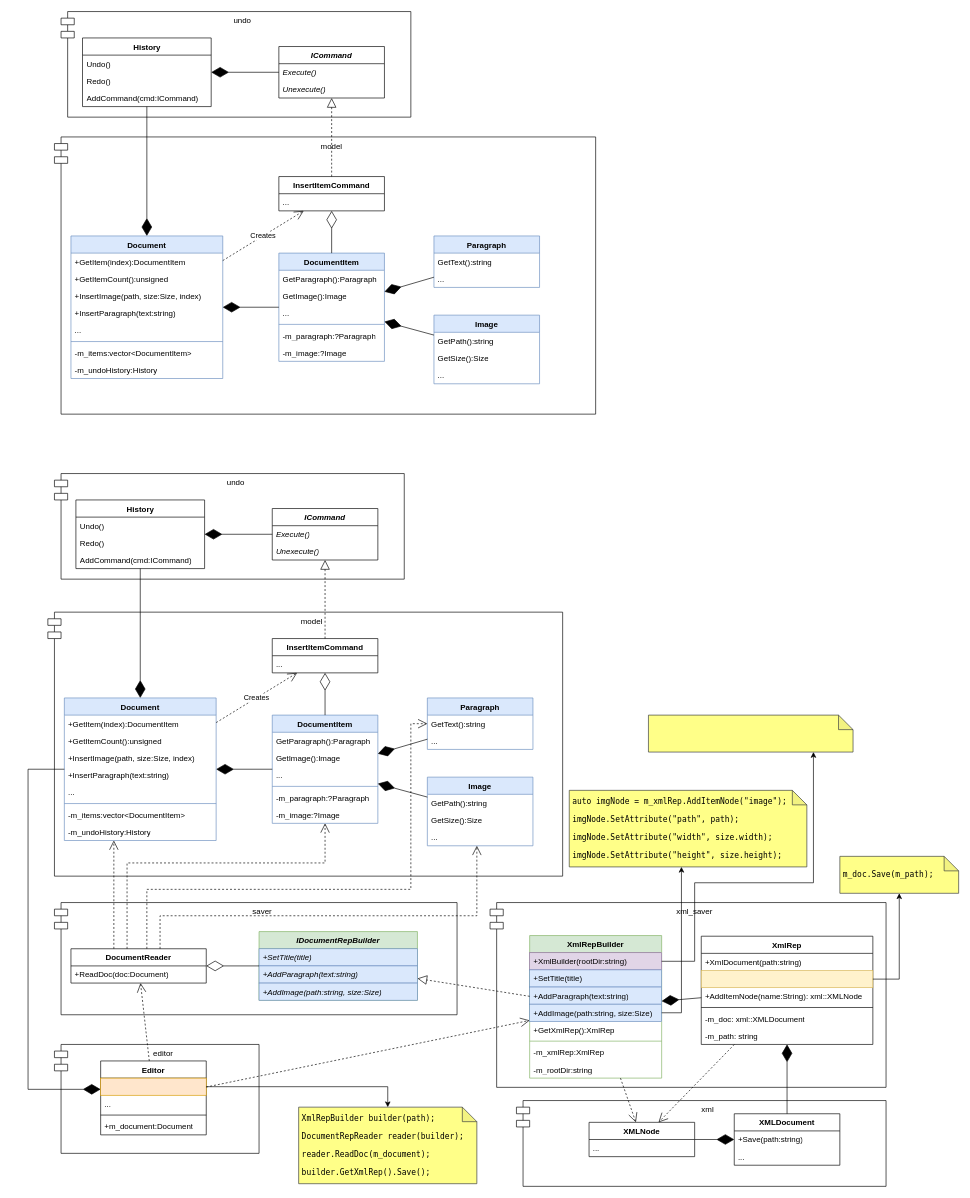
Image size: 970x1198. Some labels were removed from this diagram. Here are the shapes that lost their labels. From the top down, the centre of each, then its label:
[750,733]: m_rootDir = rootDir; m_xmlRep = XmlRep(rootDir + "/doc.xml");
[787,979]: +Save()
[153,1086]: +SaveAsXml(path:string)
